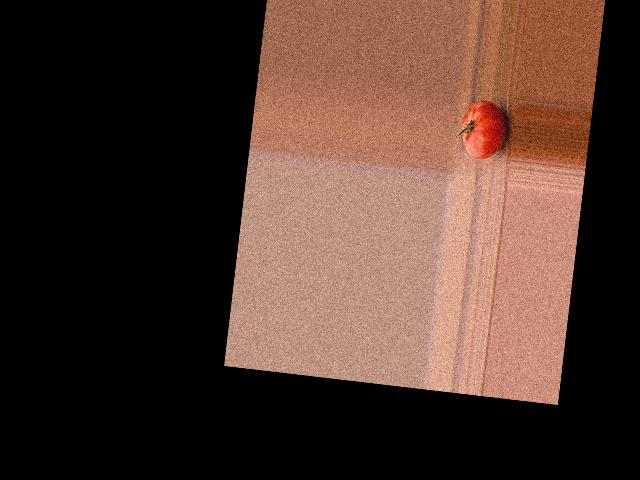tomato: (458, 98, 509, 162)
